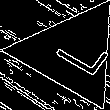L_NW: (38, 27, 104, 80)
